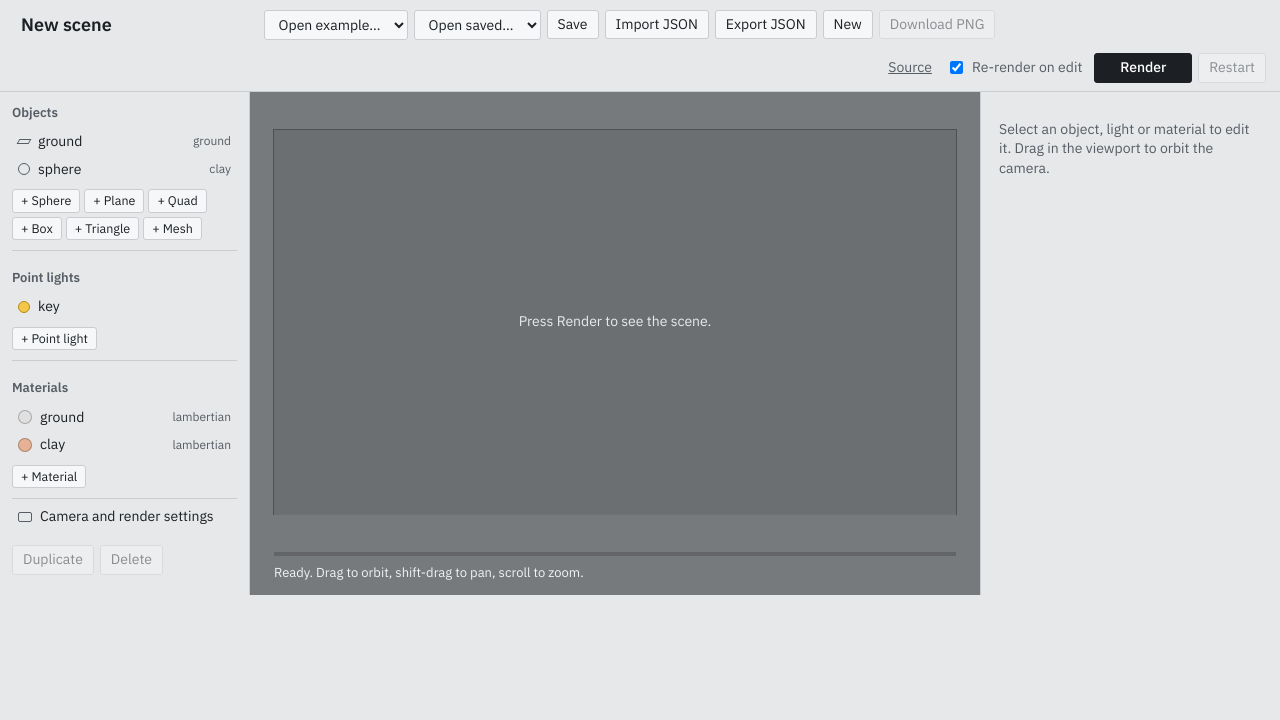
Test: scene editor › lists the starter scene and adds, edits and deletes objects
Expected: the button "ground ground" is shown, [12,128,237,156]
Expected: the button "sphere clay" is shown, [12,156,237,183]
Click the button "+ Box" at (37, 228), box [12,217,62,240]
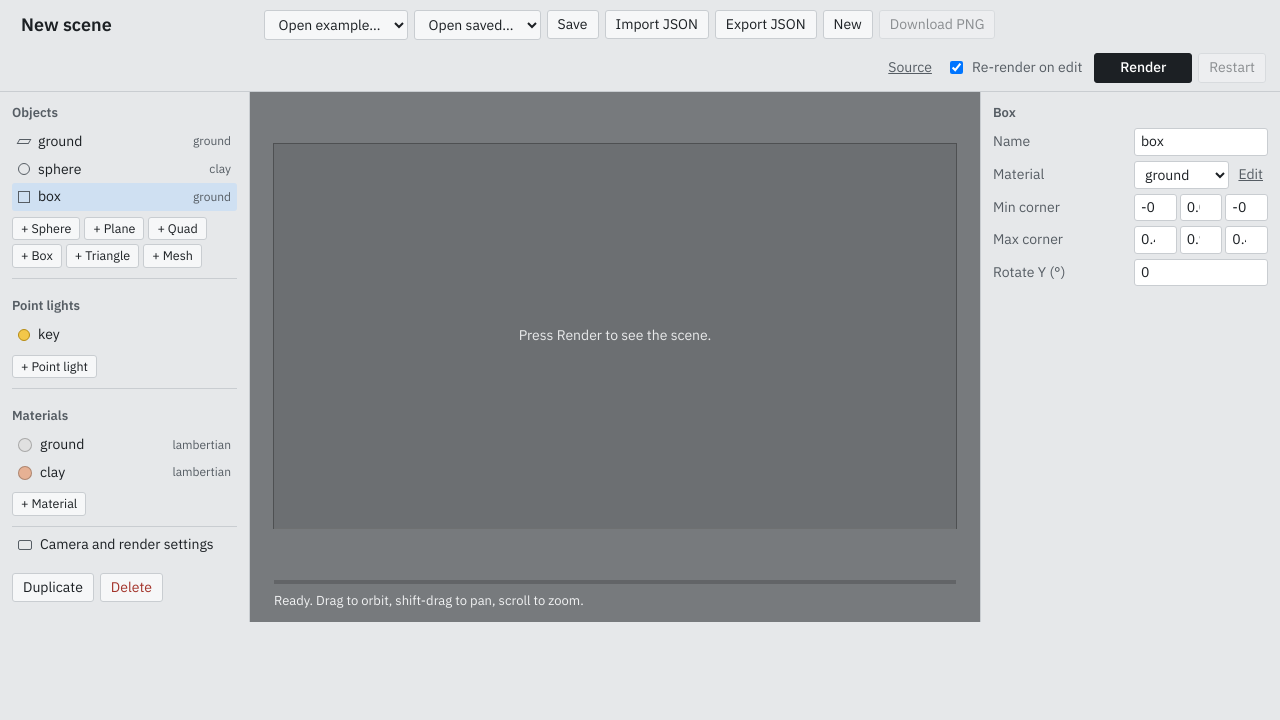
Expected: the text "box" is shown, [38,187,61,205]
Expected: the heading "Box" is shown, [993,104,1016,121]
Replace the text in the number field labelled "Rotate Y (°)" with "45" at (1201, 273), box [1134,259,1268,286]
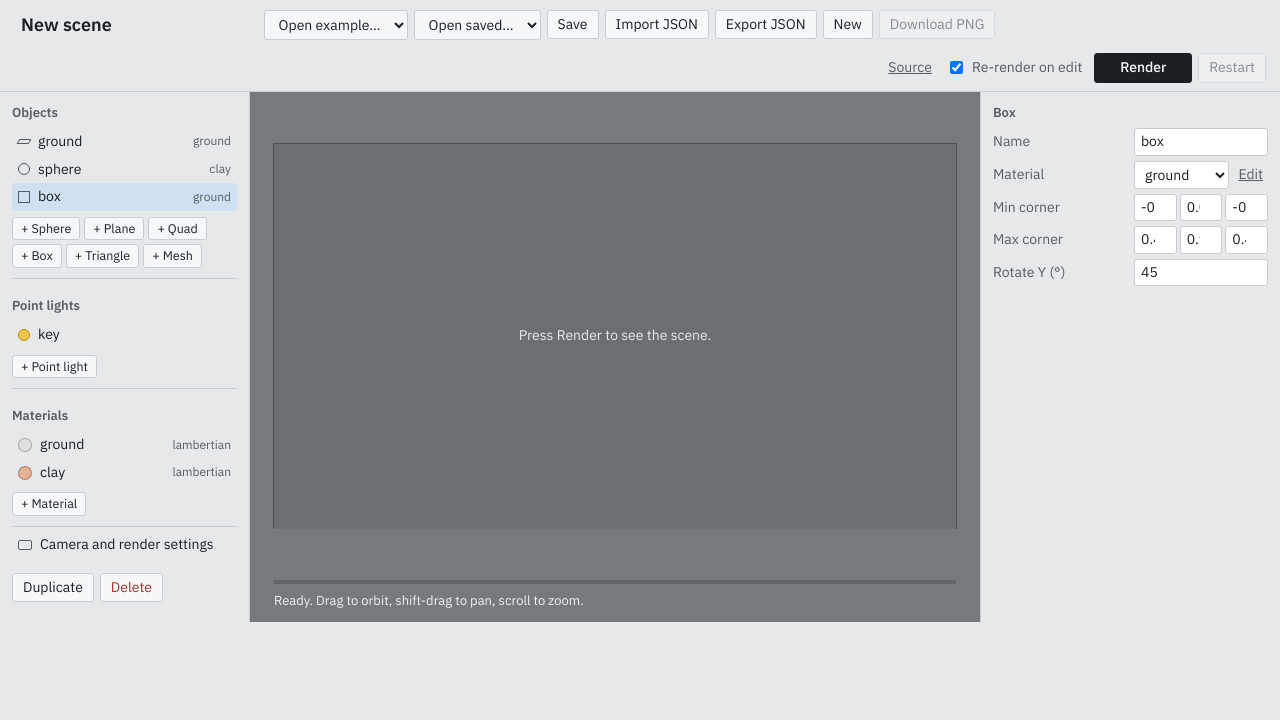
Click the button "Duplicate" at (53, 587), box [12,572,94,602]
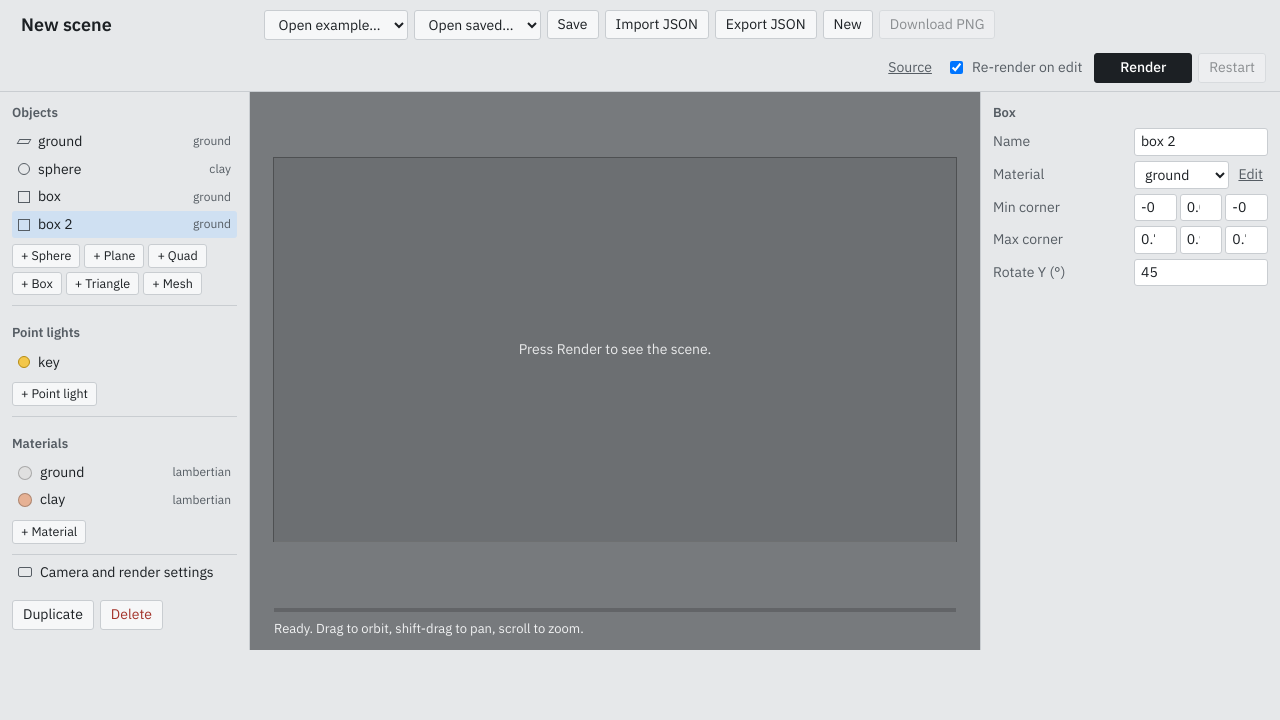
Expected: the text "box 2" is shown, [38,215,73,233]
Click the button "Delete" at (131, 615), box [100,600,163,630]
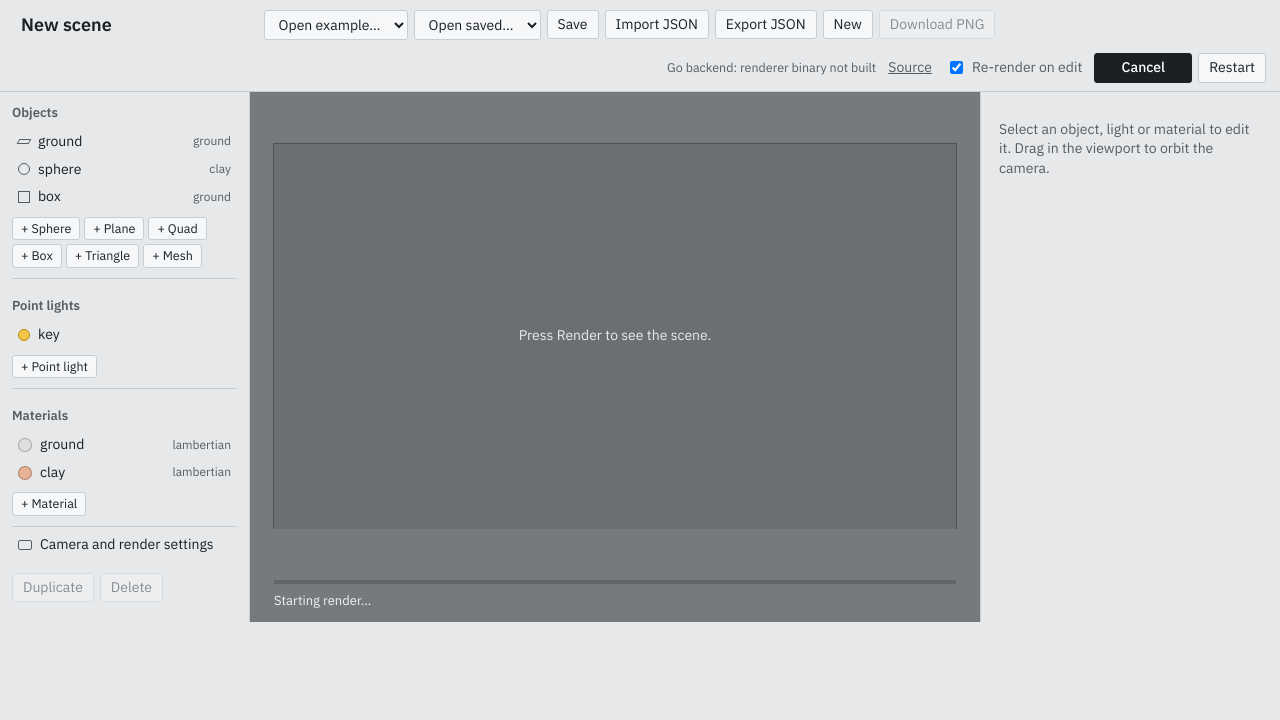
Expected: the button "box 2" is gone
